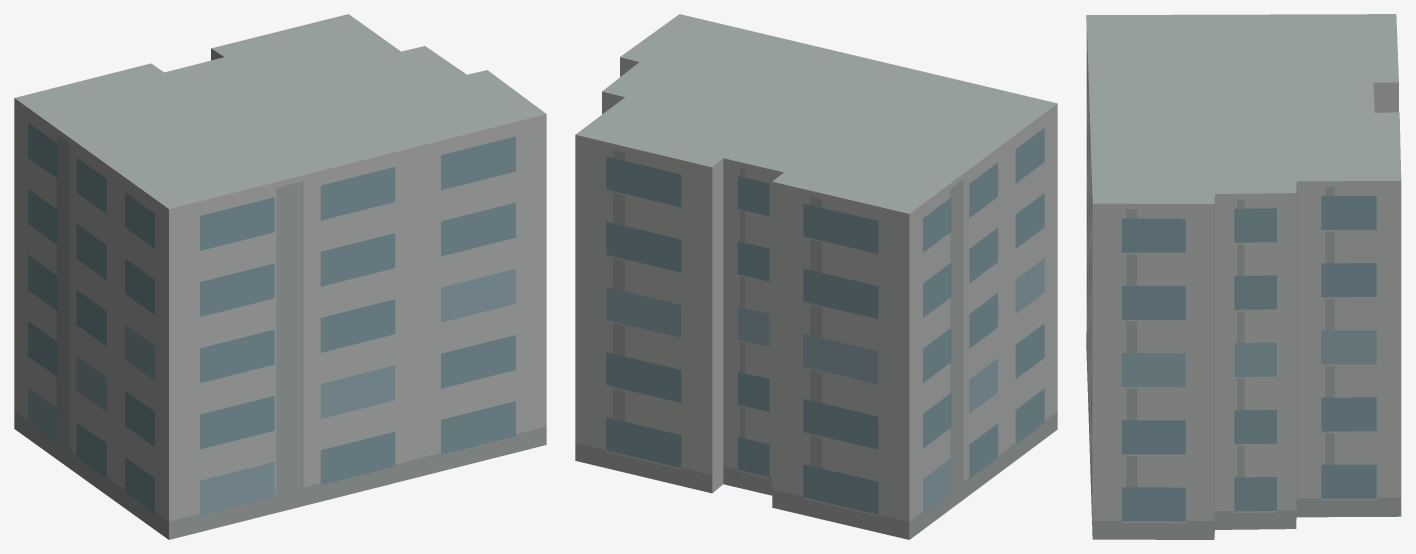
File: survey-upis-32901179.glb
3 renders of one model, left to right at view 1: azimuth 30°, elevation 25°; view 2: azimuth 150°, elevation 25°; view 3: azimuth 270°, elevation 25°, orthographic. The views are drawn at different scales.
Parts seen in each view (by area): view 1: survey-upis-32901179.tmp; view 2: survey-upis-32901179.tmp; view 3: survey-upis-32901179.tmp.
Part boxes in pixels (<box>): survey-upis-32901179.tmp: <box>14,14,546,539</box>; survey-upis-32901179.tmp: <box>575,14,1057,539</box>; survey-upis-32901179.tmp: <box>1086,14,1401,539</box>.
Size of the model in its own units: 16.63 by 13.7 by 11.65.
